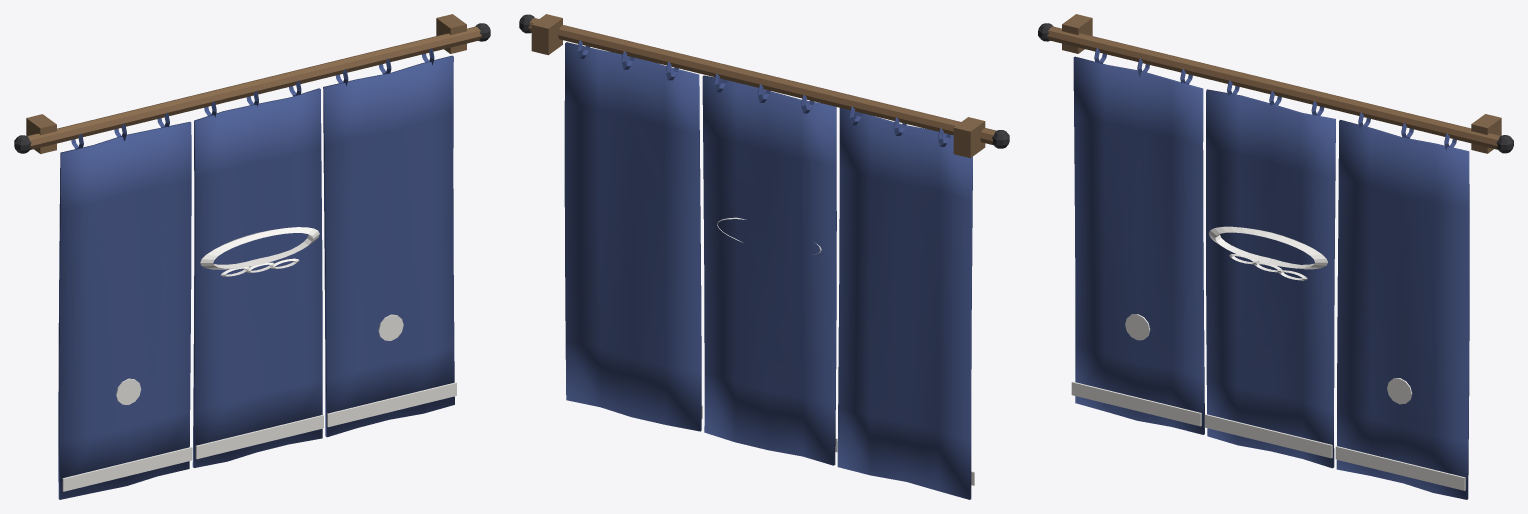
The model's file is jp_noren.glb.
The picture shows the model from 3 angles, left to right: view 1: azimuth 30°, elevation 25°; view 2: azimuth 150°, elevation 25°; view 3: azimuth 330°, elevation 25°; orthographic projection. The views are drawn at different scales.
Parts seen in each view (by area): view 1: jp_noren; view 2: jp_noren; view 3: jp_noren.
Boxes of the visible parts, x1,y1,x2,y2 form: jp_noren: (14,14,490,499); jp_noren: (519,14,1009,499); jp_noren: (1038,14,1513,499).
Size of the model in its own units: 1.16 by 0.87 by 0.1009.
